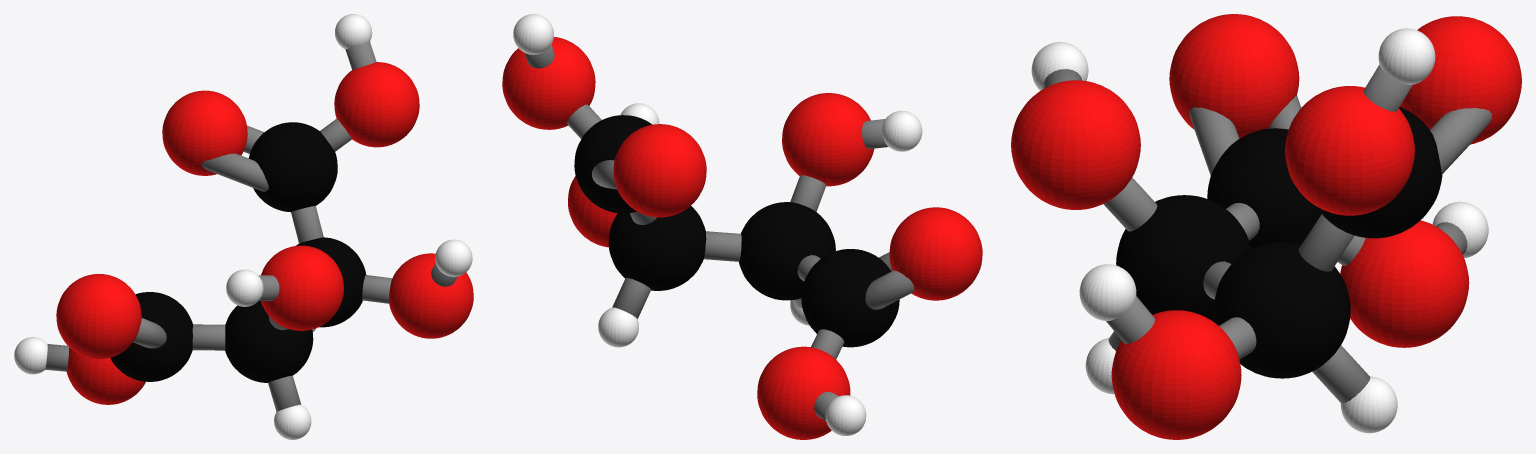
The model's file is ACIDO TARTARICO.obj.
3 views of the same model, side by side, from view 1: azimuth 30°, elevation 25°; view 2: azimuth 150°, elevation 25°; view 3: azimuth 270°, elevation 25° (orthographic). The views are drawn at different scales.
Visible parts, largest first — view 1: Oxygen_ball_Sphere.002, Carbon_ball_Sphere, Hydrogen_ball_Sphere.001, Stick_Cylinder.015_Cylinder.015, Stick_Cylinder.009_Cylinder.009, Stick_Cylinder.001_Cylinder.001, Stick_Cylinder.007_Cylinder.007, Stick_Cylinder.003_Cylinder.003, Stick_Cylinder.016_Cylinder.016, Stick_Cylinder.006_Cylinder.006, Stick_Cylinder.014_Cylinder.014, Stick_Cylinder.004_Cylinder.004; view 2: Oxygen_ball_Sphere.002, Carbon_ball_Sphere, Hydrogen_ball_Sphere.001, Stick_Cylinder.012_Cylinder.012, Stick_Cylinder.002_Cylinder.002, Stick_Cylinder_Cylinder, Stick_Cylinder.008_Cylinder.008, Stick_Cylinder.004_Cylinder.004, Stick_Cylinder.013_Cylinder.013, Stick_Cylinder.011_Cylinder.011, Stick_Cylinder.005_Cylinder.005; view 3: Oxygen_ball_Sphere.002, Carbon_ball_Sphere, Hydrogen_ball_Sphere.001, Stick_Cylinder.005_Cylinder.005, Stick_Cylinder.016_Cylinder.016, Stick_Cylinder.001_Cylinder.001, Stick_Cylinder_Cylinder, Stick_Cylinder.008_Cylinder.008, Stick_Cylinder.006_Cylinder.006, Stick_Cylinder.010_Cylinder.010, Stick_Cylinder.003_Cylinder.003, Stick_Cylinder.009_Cylinder.009 (+2 smaller).
Part boxes in pixels (x1,y1,x2,y2): Oxygen_ball_Sphere.002: [56, 62, 473, 404]; Carbon_ball_Sphere: [110, 122, 366, 382]; Hydrogen_ball_Sphere.001: [14, 14, 472, 439]; Stick_Cylinder.015_Cylinder.015: [200, 153, 268, 191]; Stick_Cylinder.009_Cylinder.009: [192, 324, 225, 350]; Stick_Cylinder.001_Cylinder.001: [291, 205, 323, 243]; Stick_Cylinder.007_Cylinder.007: [268, 375, 301, 411]; Stick_Cylinder.003_Cylinder.003: [362, 275, 392, 303]; Stick_Cylinder.016_Cylinder.016: [133, 318, 166, 348]; Stick_Cylinder.006_Cylinder.006: [345, 41, 376, 69]; Stick_Cylinder.014_Cylinder.014: [45, 344, 69, 371]; Stick_Cylinder.004_Cylinder.004: [320, 118, 351, 151]; Oxygen_ball_Sphere.002: [502, 37, 982, 439]; Carbon_ball_Sphere: [574, 115, 899, 347]; Hydrogen_ball_Sphere.001: [513, 14, 922, 435]; Stick_Cylinder.012_Cylinder.012: [865, 270, 914, 309]; Stick_Cylinder.002_Cylinder.002: [704, 231, 741, 261]; Stick_Cylinder_Cylinder: [612, 277, 651, 318]; Stick_Cylinder.008_Cylinder.008: [790, 175, 826, 211]; Stick_Cylinder.004_Cylinder.004: [567, 104, 601, 138]; Stick_Cylinder.013_Cylinder.013: [811, 329, 844, 359]; Stick_Cylinder.011_Cylinder.011: [862, 119, 888, 148]; Stick_Cylinder.005_Cylinder.005: [591, 160, 617, 189]; Oxygen_ball_Sphere.002: [1011, 14, 1521, 439]; Carbon_ball_Sphere: [1116, 106, 1442, 378]; Hydrogen_ball_Sphere.001: [1031, 28, 1488, 433]; Stick_Cylinder.005_Cylinder.005: [1430, 108, 1492, 174]; Stick_Cylinder.016_Cylinder.016: [1189, 107, 1239, 175]; Stick_Cylinder.001_Cylinder.001: [1298, 214, 1354, 271]; Stick_Cylinder_Cylinder: [1312, 345, 1370, 403]; Stick_Cylinder.008_Cylinder.008: [1103, 177, 1157, 231]; Stick_Cylinder.006_Cylinder.006: [1363, 64, 1412, 111]; Stick_Cylinder.010_Cylinder.010: [1106, 296, 1154, 343]; Stick_Cylinder.003_Cylinder.003: [1219, 317, 1256, 359]; Stick_Cylinder.009_Cylinder.009: [1226, 203, 1259, 240].
Size of the model in its own units: 6.93 by 5.51 by 5.17.
